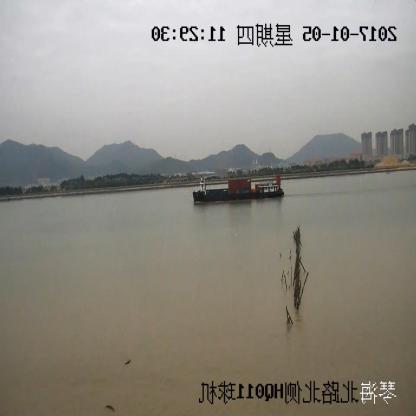Container Ship: (192, 175, 284, 205)
